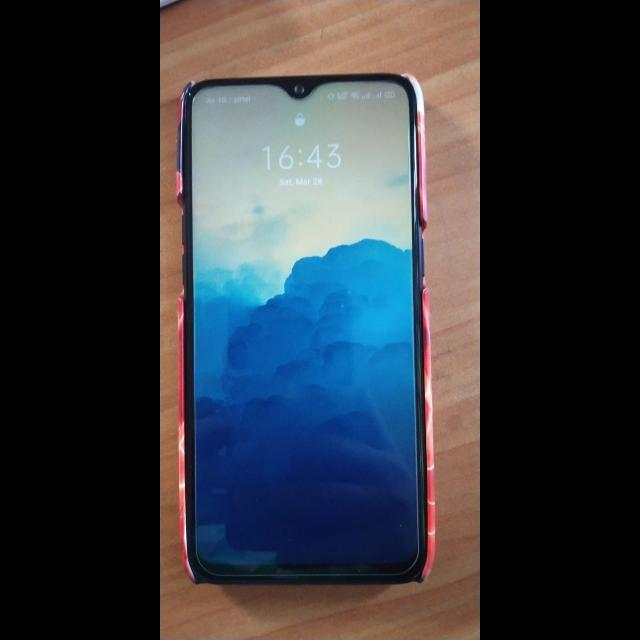Smartphone: (174, 62, 448, 598)
